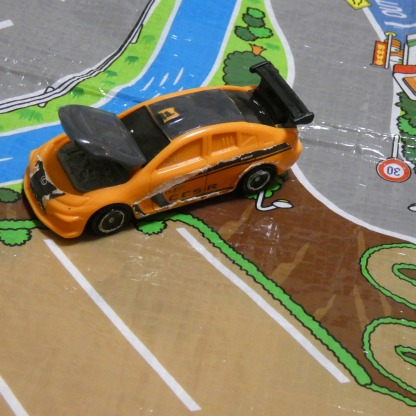car: (24, 62, 313, 240)
